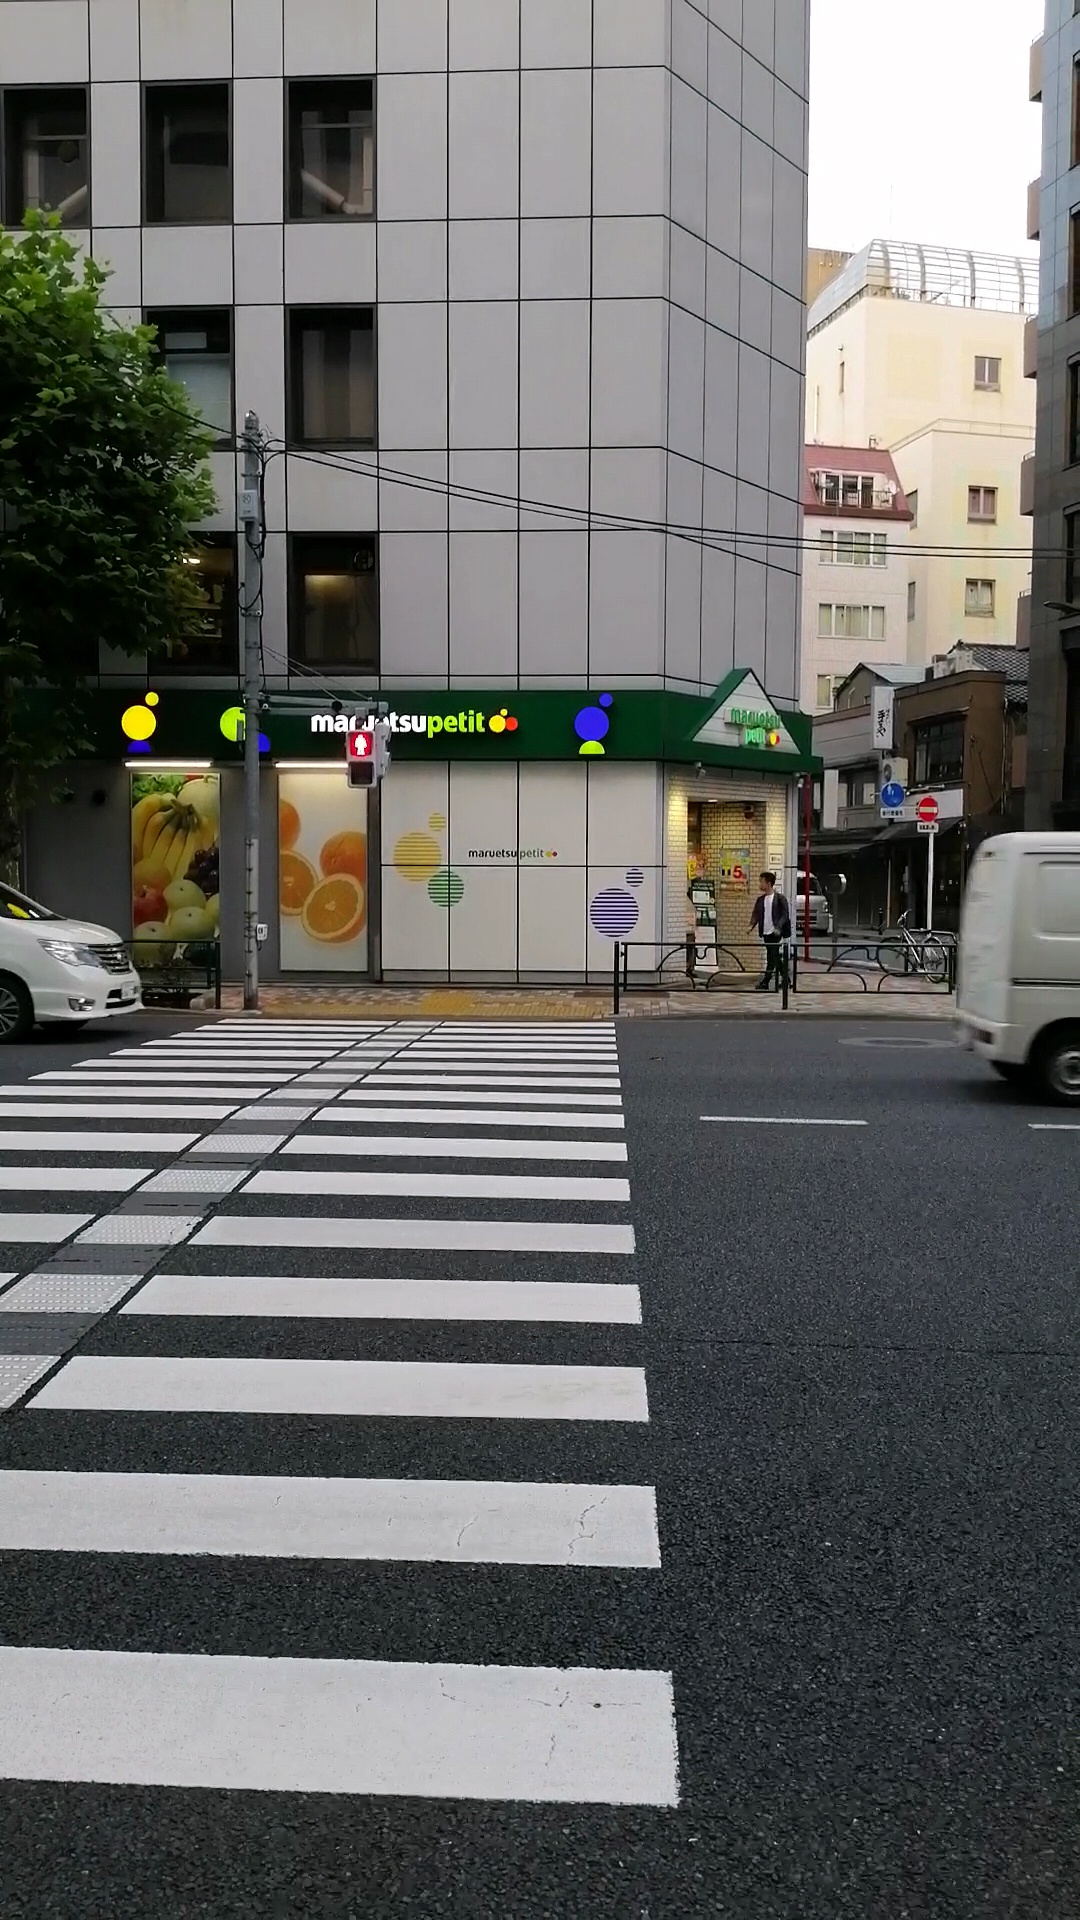red: (344, 728, 378, 790)
